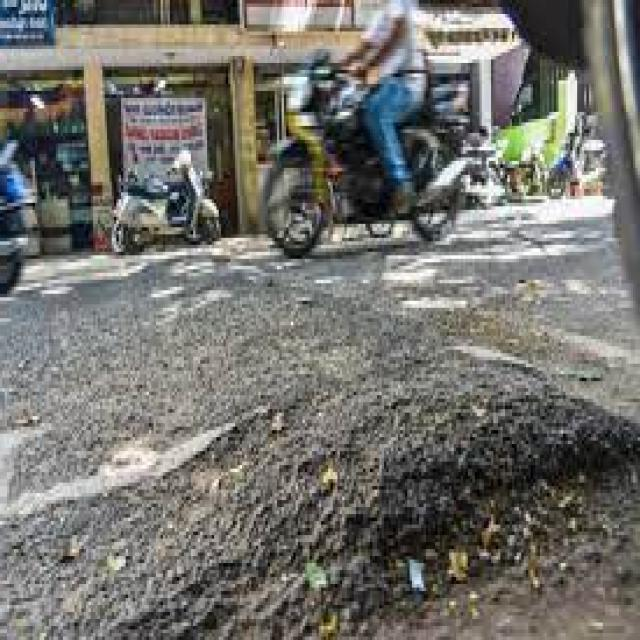speedbreaker: (0, 323, 561, 495)
